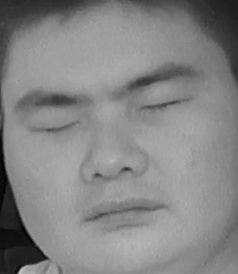blink: (28, 110, 85, 146), (138, 88, 190, 125)
mouth: (78, 188, 173, 235)
